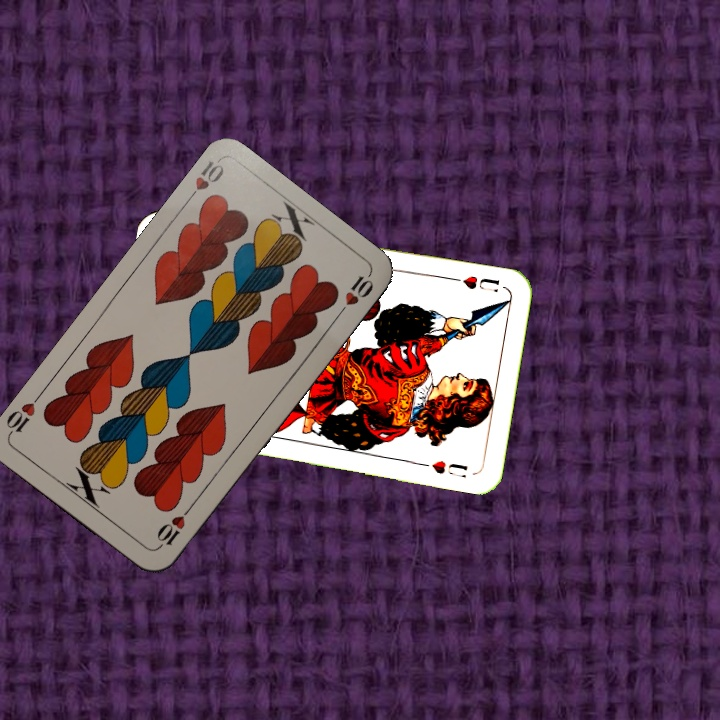H10: (181, 156, 227, 206), (152, 501, 196, 552)
HU: (448, 271, 502, 292)
